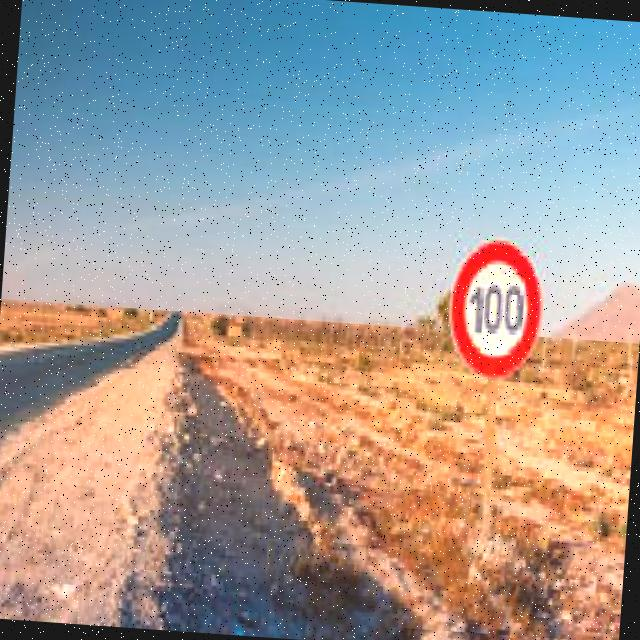Ograniczenie predkosci do 100: (444, 237, 544, 387)
